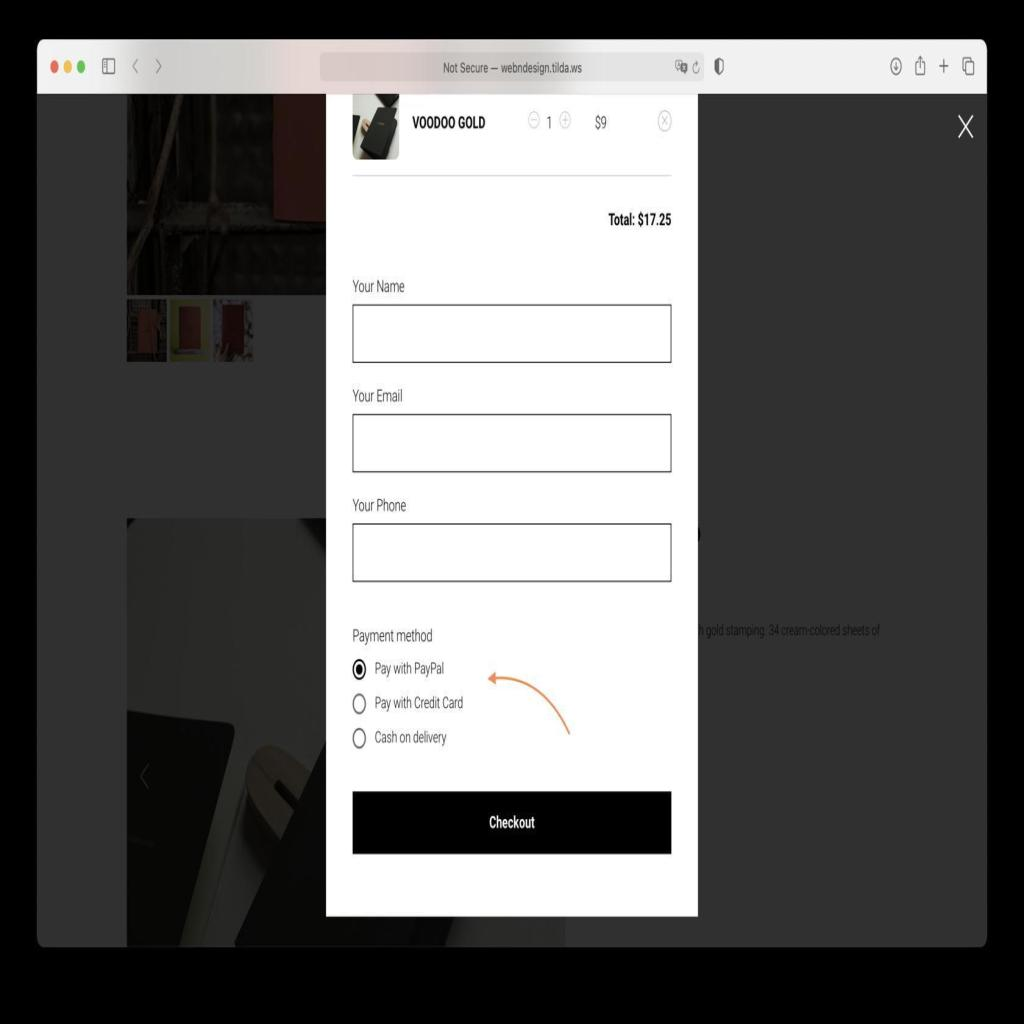button: (351, 788, 674, 858)
input: (351, 414, 672, 470), (351, 526, 672, 582), (354, 307, 672, 362)
label: (374, 692, 464, 714), (376, 728, 452, 749), (374, 658, 445, 680), (348, 492, 410, 516), (350, 383, 406, 406), (351, 274, 407, 295)
radio: (351, 692, 369, 716), (352, 656, 366, 683), (351, 727, 367, 749)
